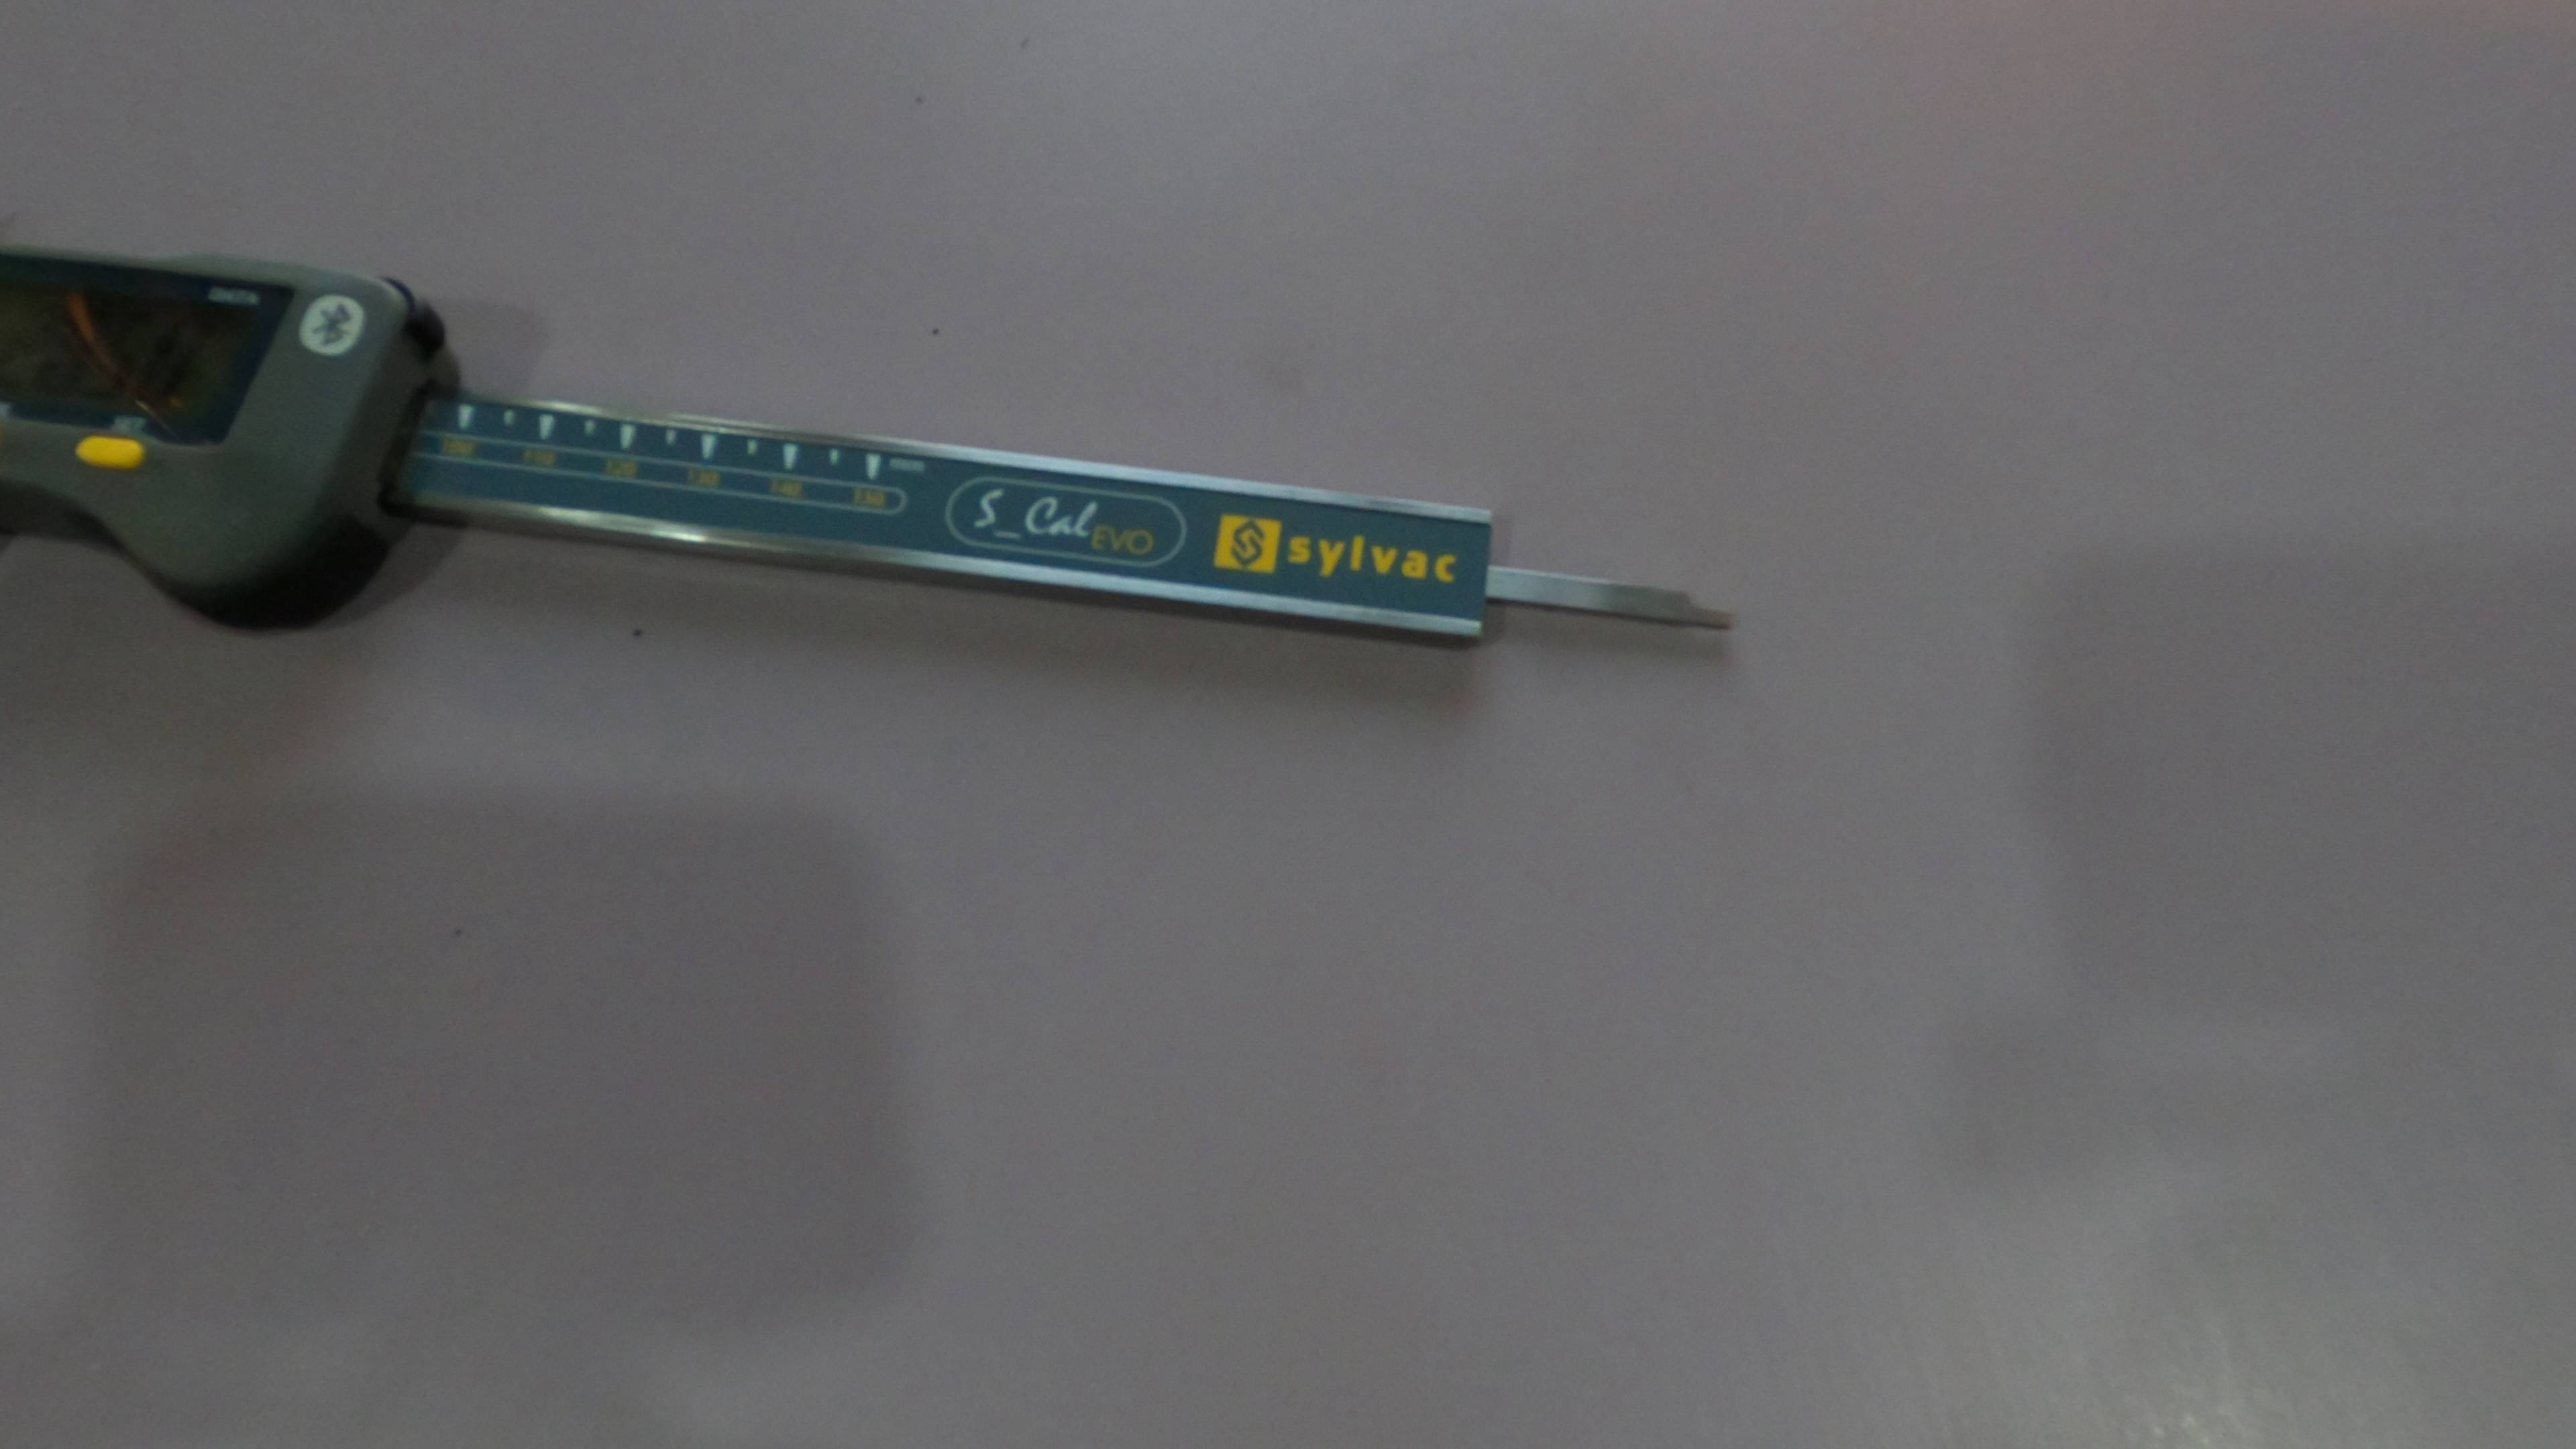vernier_caliper: (0, 225, 1737, 674)
